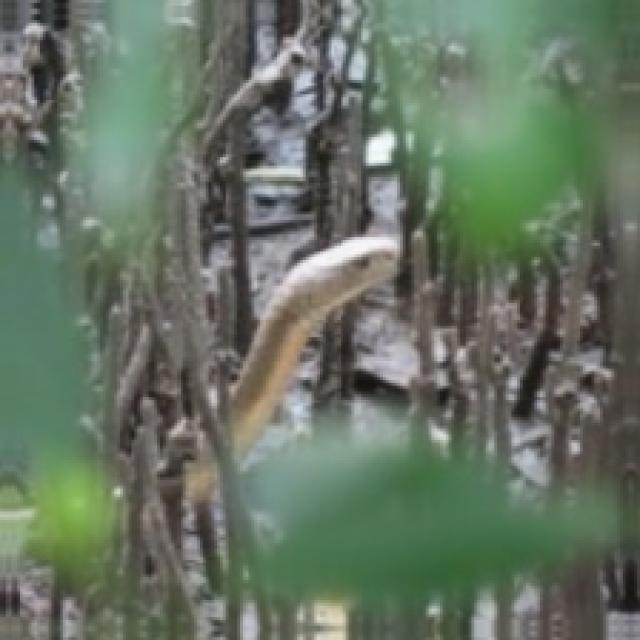king cobra: (226, 237, 397, 454)
